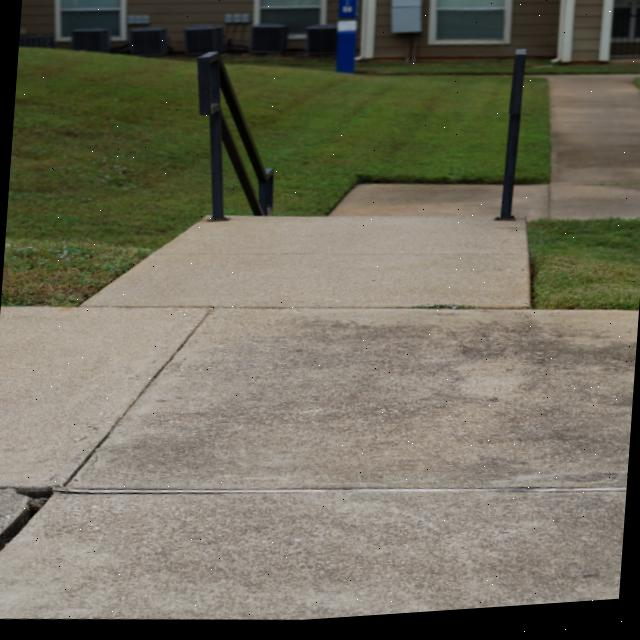Obstacle: (197, 55, 273, 224), (495, 59, 524, 228)
Sidewalk: (0, 83, 640, 624)
